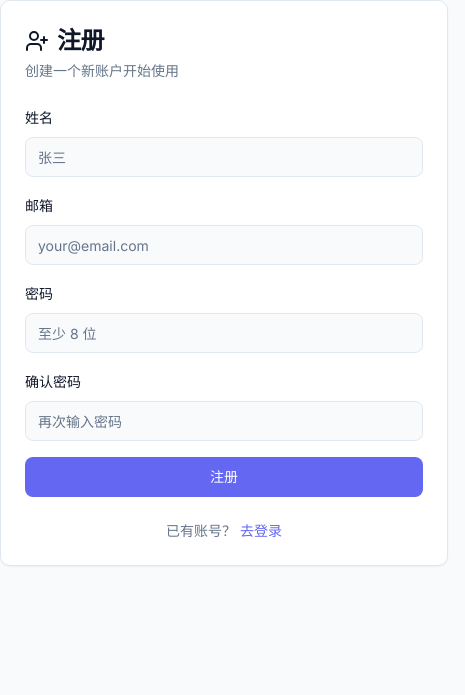
Test case: RegisterForm › 表单验证 › 应该验证密码长度
Type "1234567" into the password field labelled "密码". click: (224, 333)
box: [25,313,423,353]
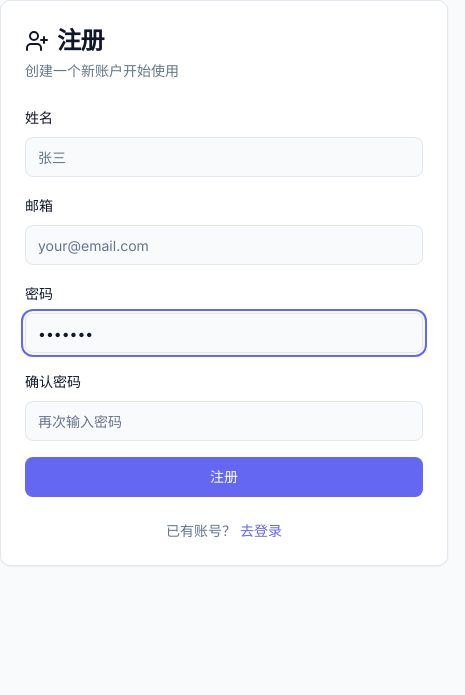
Click the button "注册". click: (224, 477)
box: [25,457,423,497]
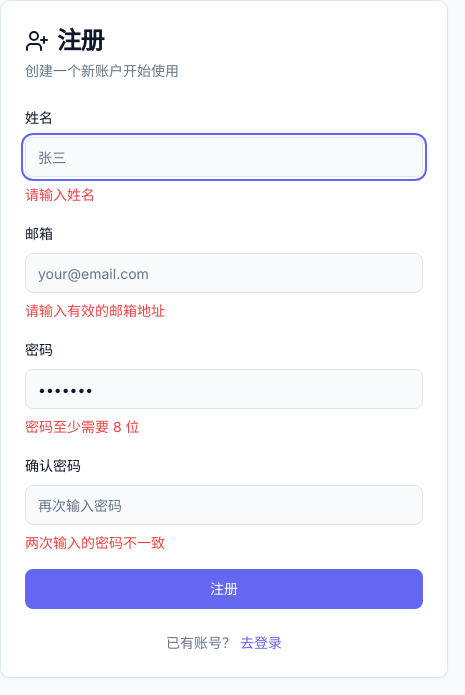
expect the text "密码至少需要 8 位" is shown: met, box [25,418,140,435]
